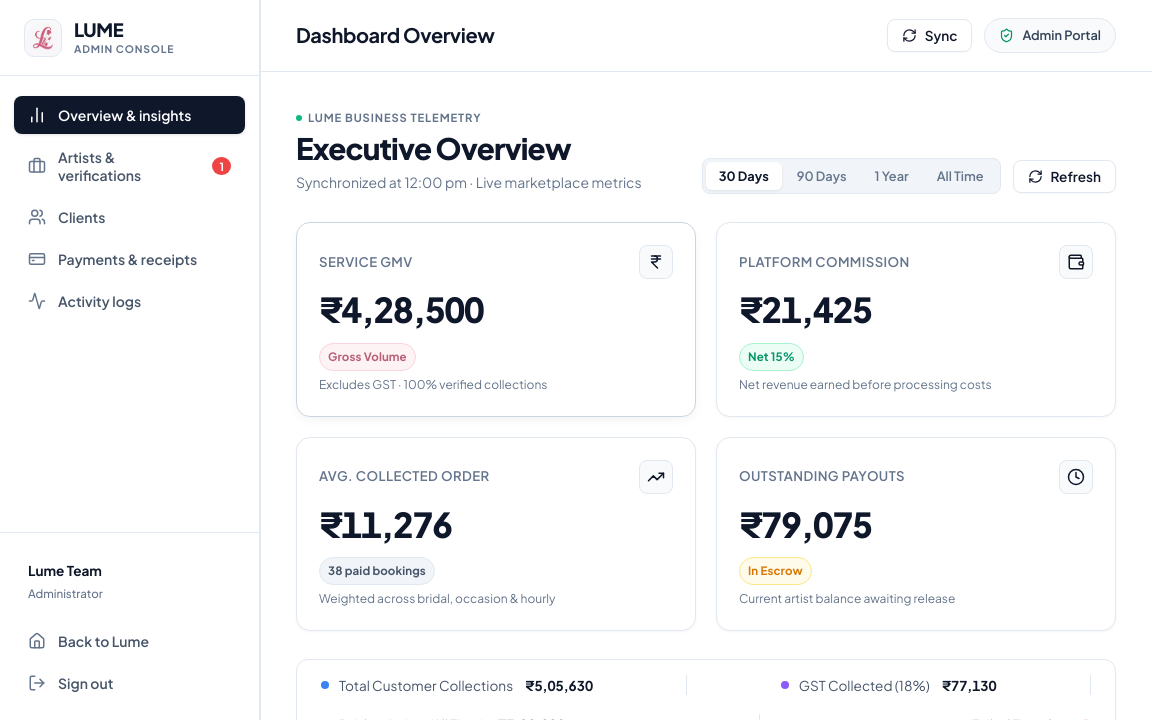
loads actual insights, filters artists and opens the management dialog
Expected: the text "Service GMV" is shown, [319,251,413,274]
Click the button "Artists & verifications 1" at (130, 166), box [14,138,245,194]
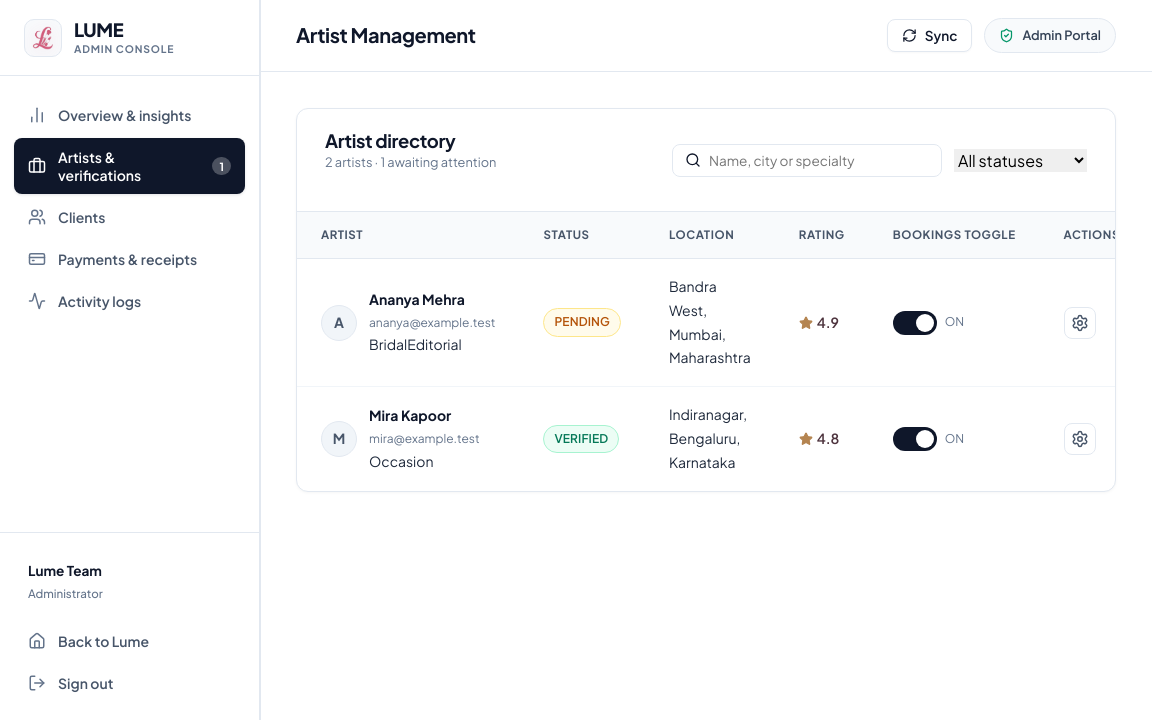
Type "Mira" into the field named "Search artists" at (819, 160), box [709,152,929,169]
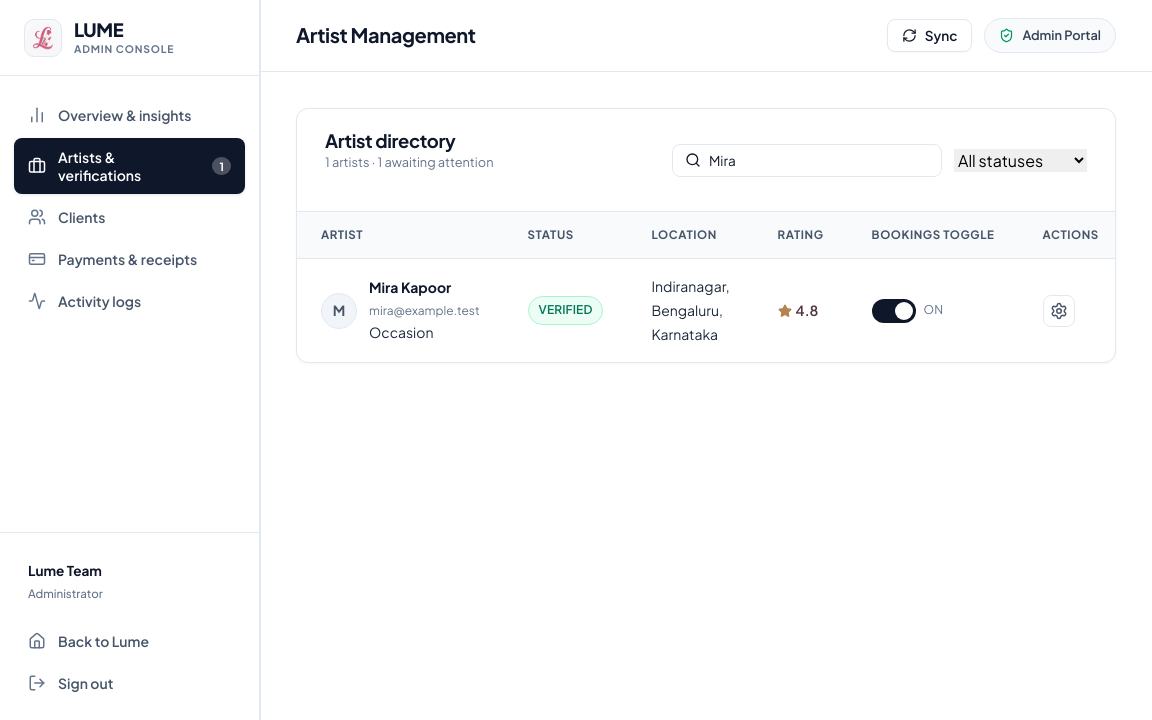
Expected: the text "Mira Kapoor" is shown, [369,278,451,296]
Now the text "Ananya Mehra" is gone
Click the button titled "Manage Artist" at (1058, 311), box [1042,295,1074,327]
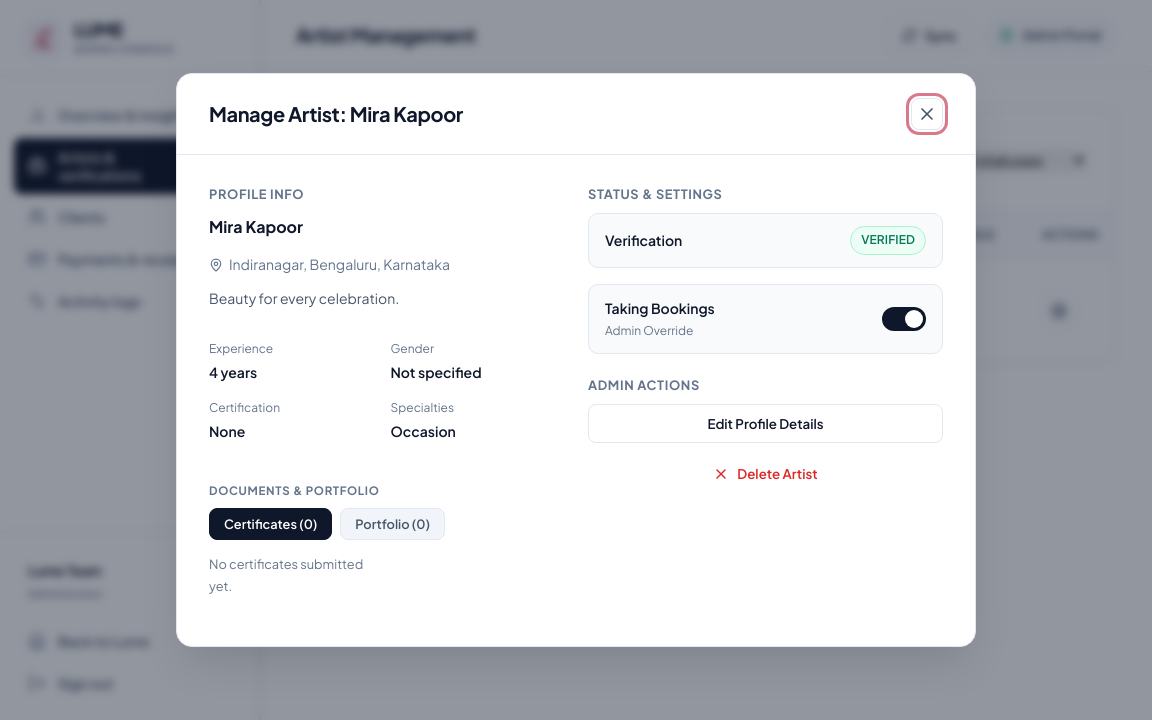
Now the dialog is shown
Click the button "Edit Profile Details" at (766, 424), box [588,404,943,443]
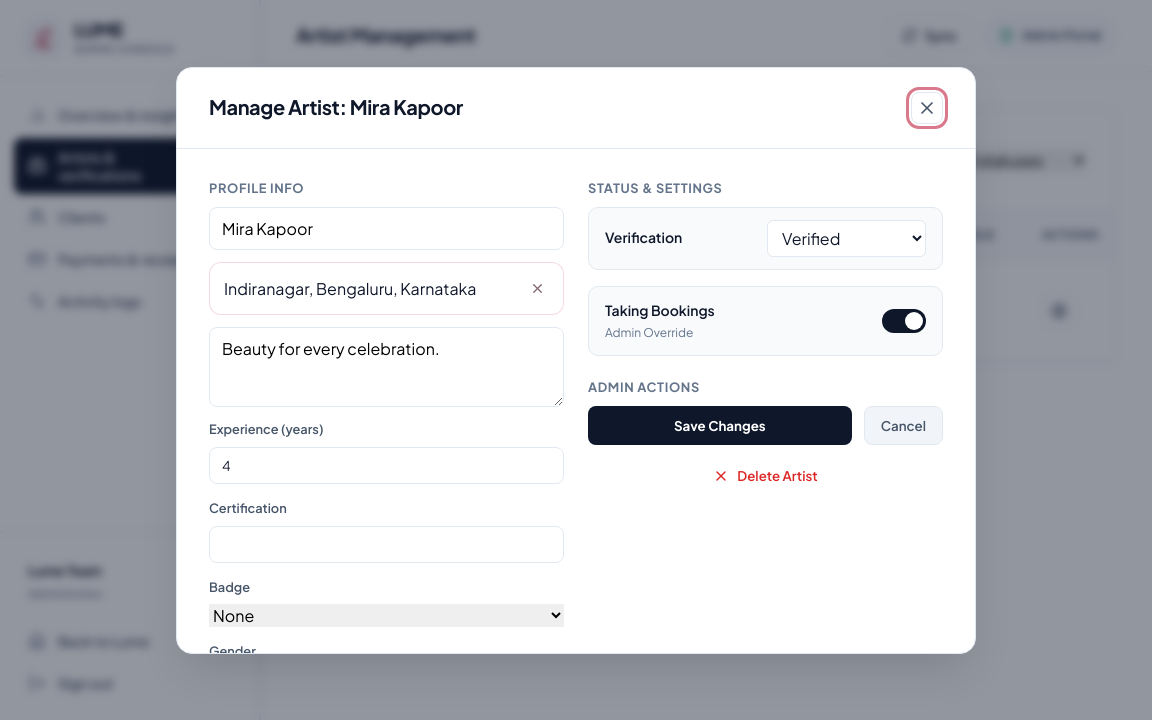
Now the dropdown named "Location" holds "Indiranagar, Bengaluru, Karnataka", box [224,275,518,302]
Press Escape
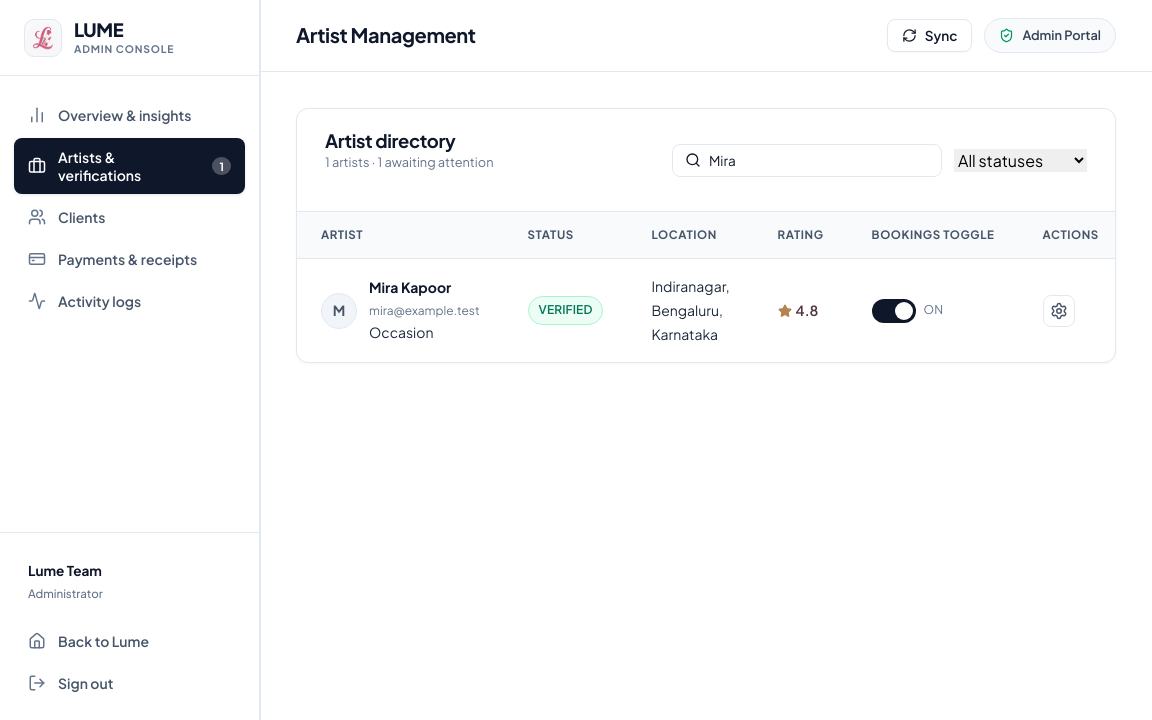
Now the dialog is gone
